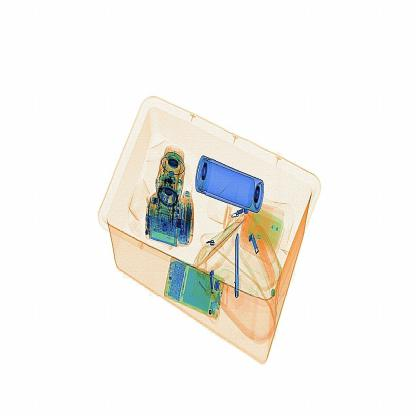pliers: (227, 228, 246, 304)
